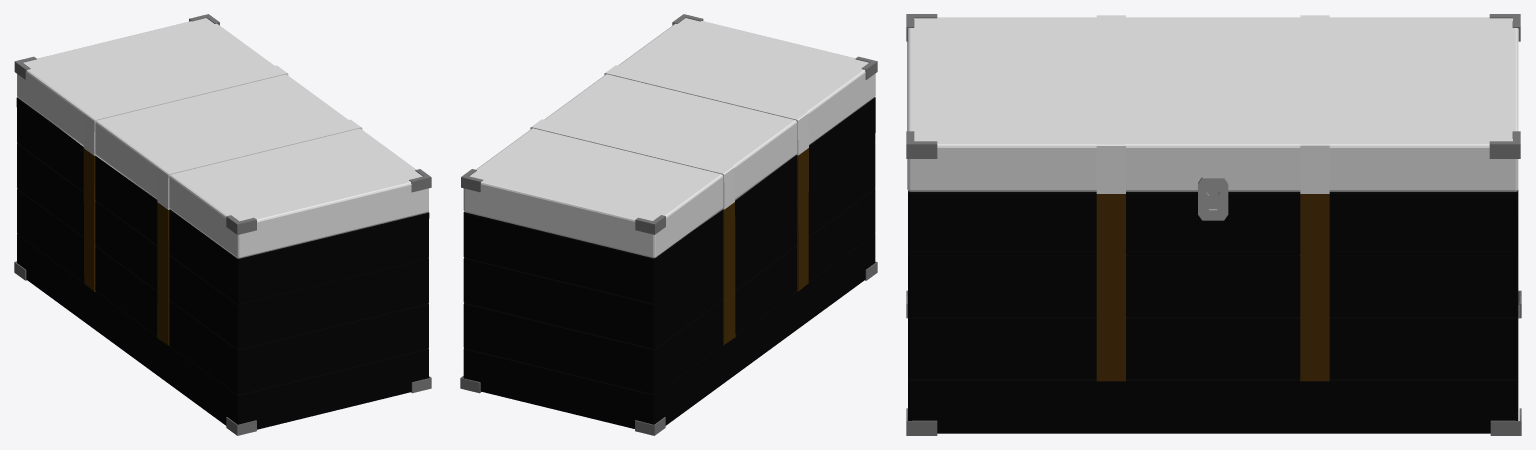
Rendered from ScaledChest.fbx.
3 views of the same model, side by side, from view 1: azimuth 30°, elevation 25°; view 2: azimuth 150°, elevation 25°; view 3: azimuth 270°, elevation 25° (orthographic). The views are drawn at different scales.
Parts seen in each view (by area): view 1: Main, Lid, Corners Top, Corners Bottom; view 2: Main, Lid, Corners Top, Corners Bottom; view 3: Main, Lid, Corners Top, Lock Thing, Corners Bottom.
Boxes of the visible parts, bbox=[...] form: Main: bbox=[16, 97, 429, 429]; Lid: bbox=[17, 18, 428, 258]; Corners Top: bbox=[14, 14, 431, 234]; Corners Bottom: bbox=[14, 261, 431, 435]; Main: bbox=[463, 97, 875, 428]; Lid: bbox=[463, 18, 875, 258]; Corners Top: bbox=[461, 14, 877, 234]; Corners Bottom: bbox=[460, 261, 877, 435]; Main: bbox=[908, 190, 1518, 433]; Lid: bbox=[907, 15, 1518, 193]; Corners Top: bbox=[906, 14, 1520, 158]; Lock Thing: bbox=[1198, 176, 1228, 220]; Corners Bottom: bbox=[906, 290, 1521, 435].
Bounding box in the file's own units: 69.54 × 71.74 × 137.
